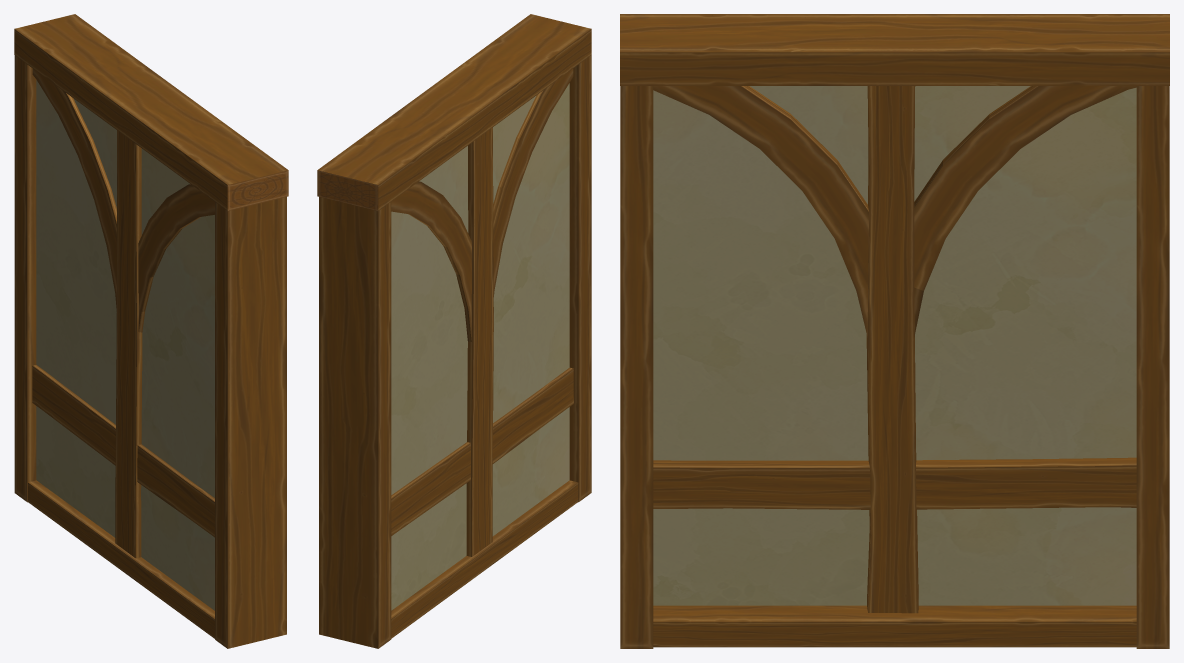
File: SM_House_Roof_01_WallMiddle_A_03.fbx
3 renders of one model, left to right at view 1: azimuth 30°, elevation 25°; view 2: azimuth 150°, elevation 25°; view 3: azimuth 270°, elevation 25°, orthographic. The views are drawn at different scales.
Parts seen in each view (by area): view 1: SM_House_Roof_01_WallMiddle_A_03; view 2: SM_House_Roof_01_WallMiddle_A_03; view 3: SM_House_Roof_01_WallMiddle_A_03.
Part boxes in pixels (<box>): SM_House_Roof_01_WallMiddle_A_03: <box>14,14,288,648</box>; SM_House_Roof_01_WallMiddle_A_03: <box>317,14,591,648</box>; SM_House_Roof_01_WallMiddle_A_03: <box>620,14,1169,648</box>.
Bounding box in the file's own units: 0.4117 × 3 × 2.5.
